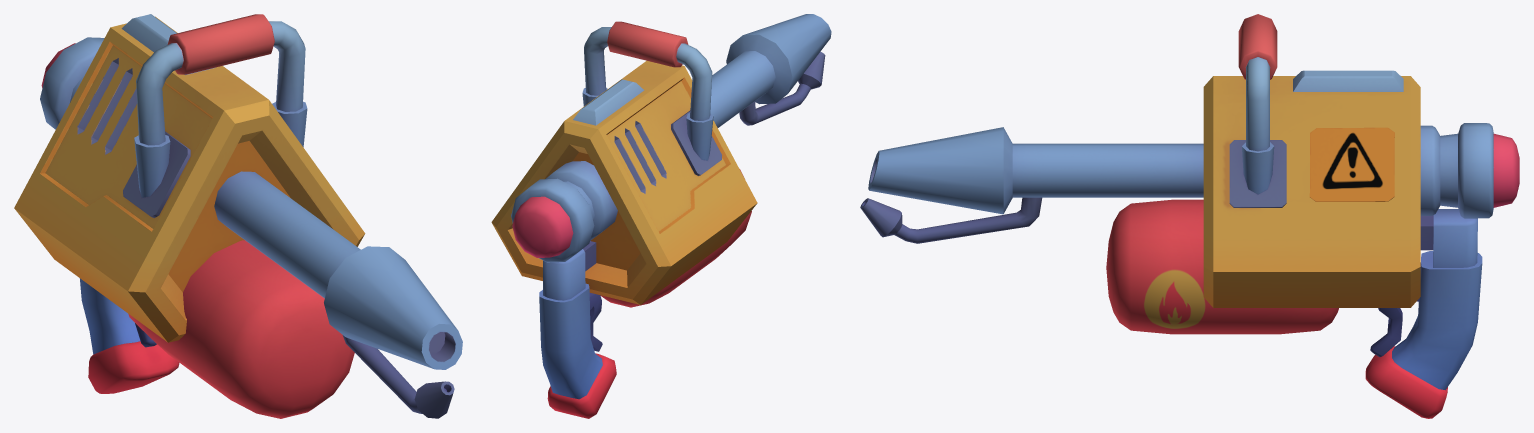
Rendered from LowPoly_FlameGun.fbx.
3 views of the same model, side by side, from view 1: azimuth 30°, elevation 25°; view 2: azimuth 150°, elevation 25°; view 3: azimuth 270°, elevation 25° (orthographic). The views are drawn at different scales.
Parts seen in each view (by area): view 1: Flamethrower; view 2: Flamethrower; view 3: Flamethrower.
Part boxes in pixels (bbox=[...]): Flamethrower: bbox=[14, 14, 462, 418]; Flamethrower: bbox=[491, 14, 831, 418]; Flamethrower: bbox=[860, 14, 1519, 418].
Bounding box in the file's own units: 116 × 204 × 322.
